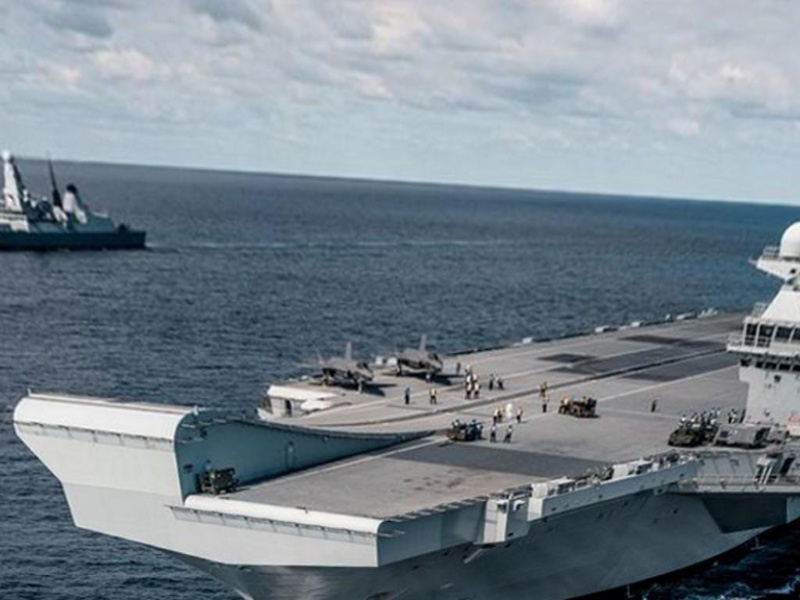carrier: (64, 277, 798, 596)
cruise: (3, 152, 150, 247)
